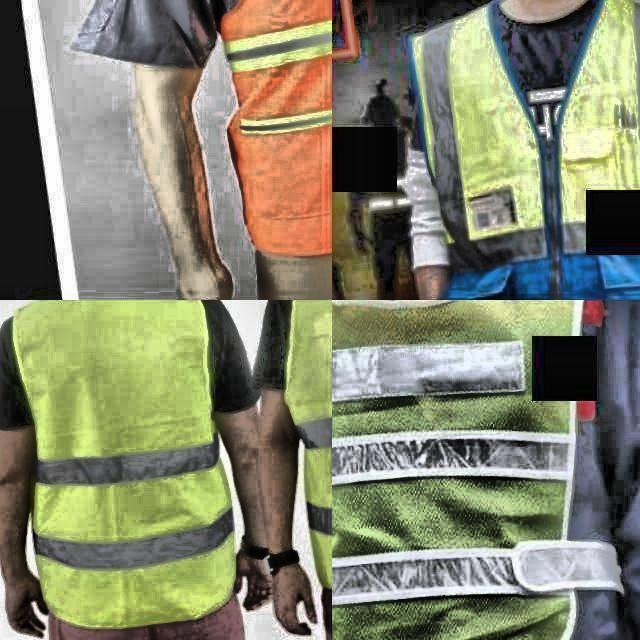safety_jacket: (332, 300, 612, 640), (0, 300, 231, 640), (400, 0, 640, 291), (187, 0, 332, 259)
